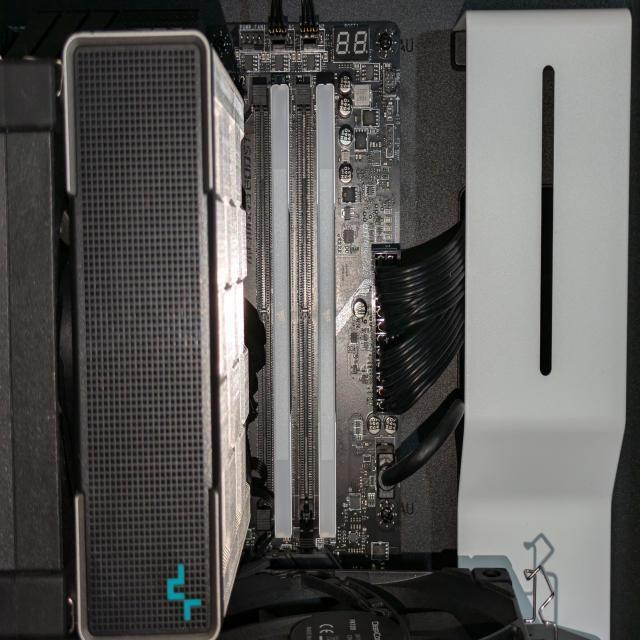CPU_Fan: (2, 29, 252, 638)
Mainboard: (223, 20, 401, 570)
RAM: (315, 82, 338, 536), (270, 83, 292, 536)
